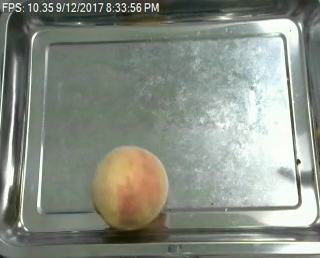Peach: (90, 146, 168, 231)
